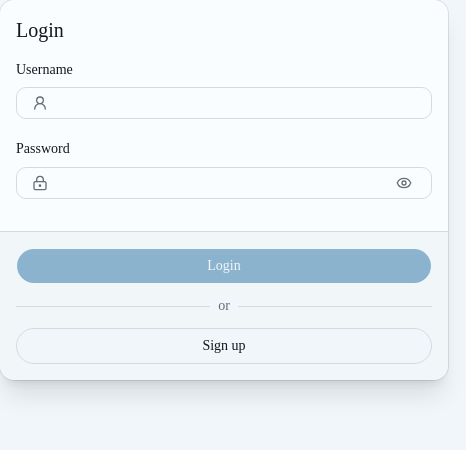
it: shows a network error, restores submission and clears feedback when editing
Type " ryan " into the field labelled "Username".
click(224, 103); type(" ryan ")  # box top-left (16, 87), bottom-right (432, 119)
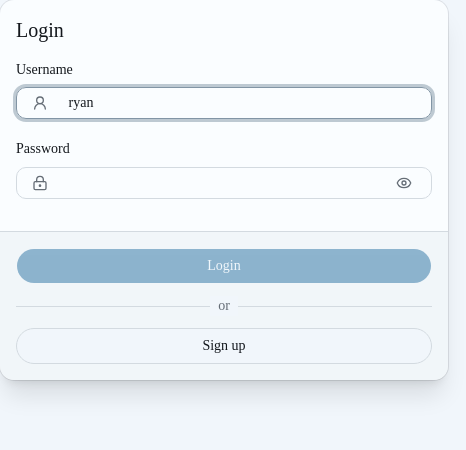
Type " Password123 " into the password field labelled "Password".
click(224, 182); type(" Password123 ")  # box top-left (16, 166), bottom-right (432, 198)
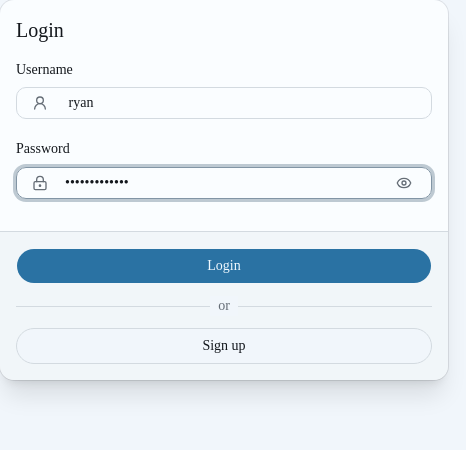
Click the button "Login".
click(224, 266)  # box top-left (16, 248), bottom-right (432, 284)
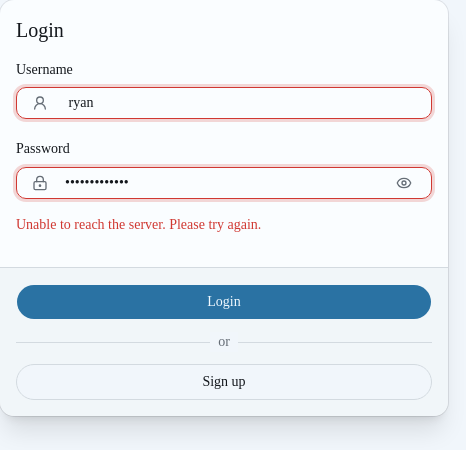
expect the button "Login" is enabled: met, box top-left (16, 284), bottom-right (432, 320)
expect the message reads "Unable to reach the server. Please try again.": met, box top-left (16, 216), bottom-right (261, 232)
Type "x" into the field labelled "Username".
click(224, 103); type("x")  # box top-left (16, 87), bottom-right (432, 119)
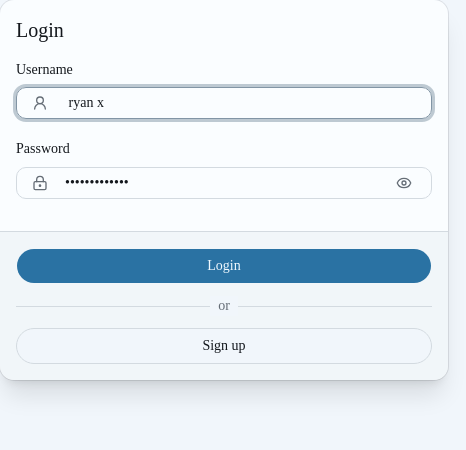
expect the message "Unable to reach the server. Please try again." is gone: met
